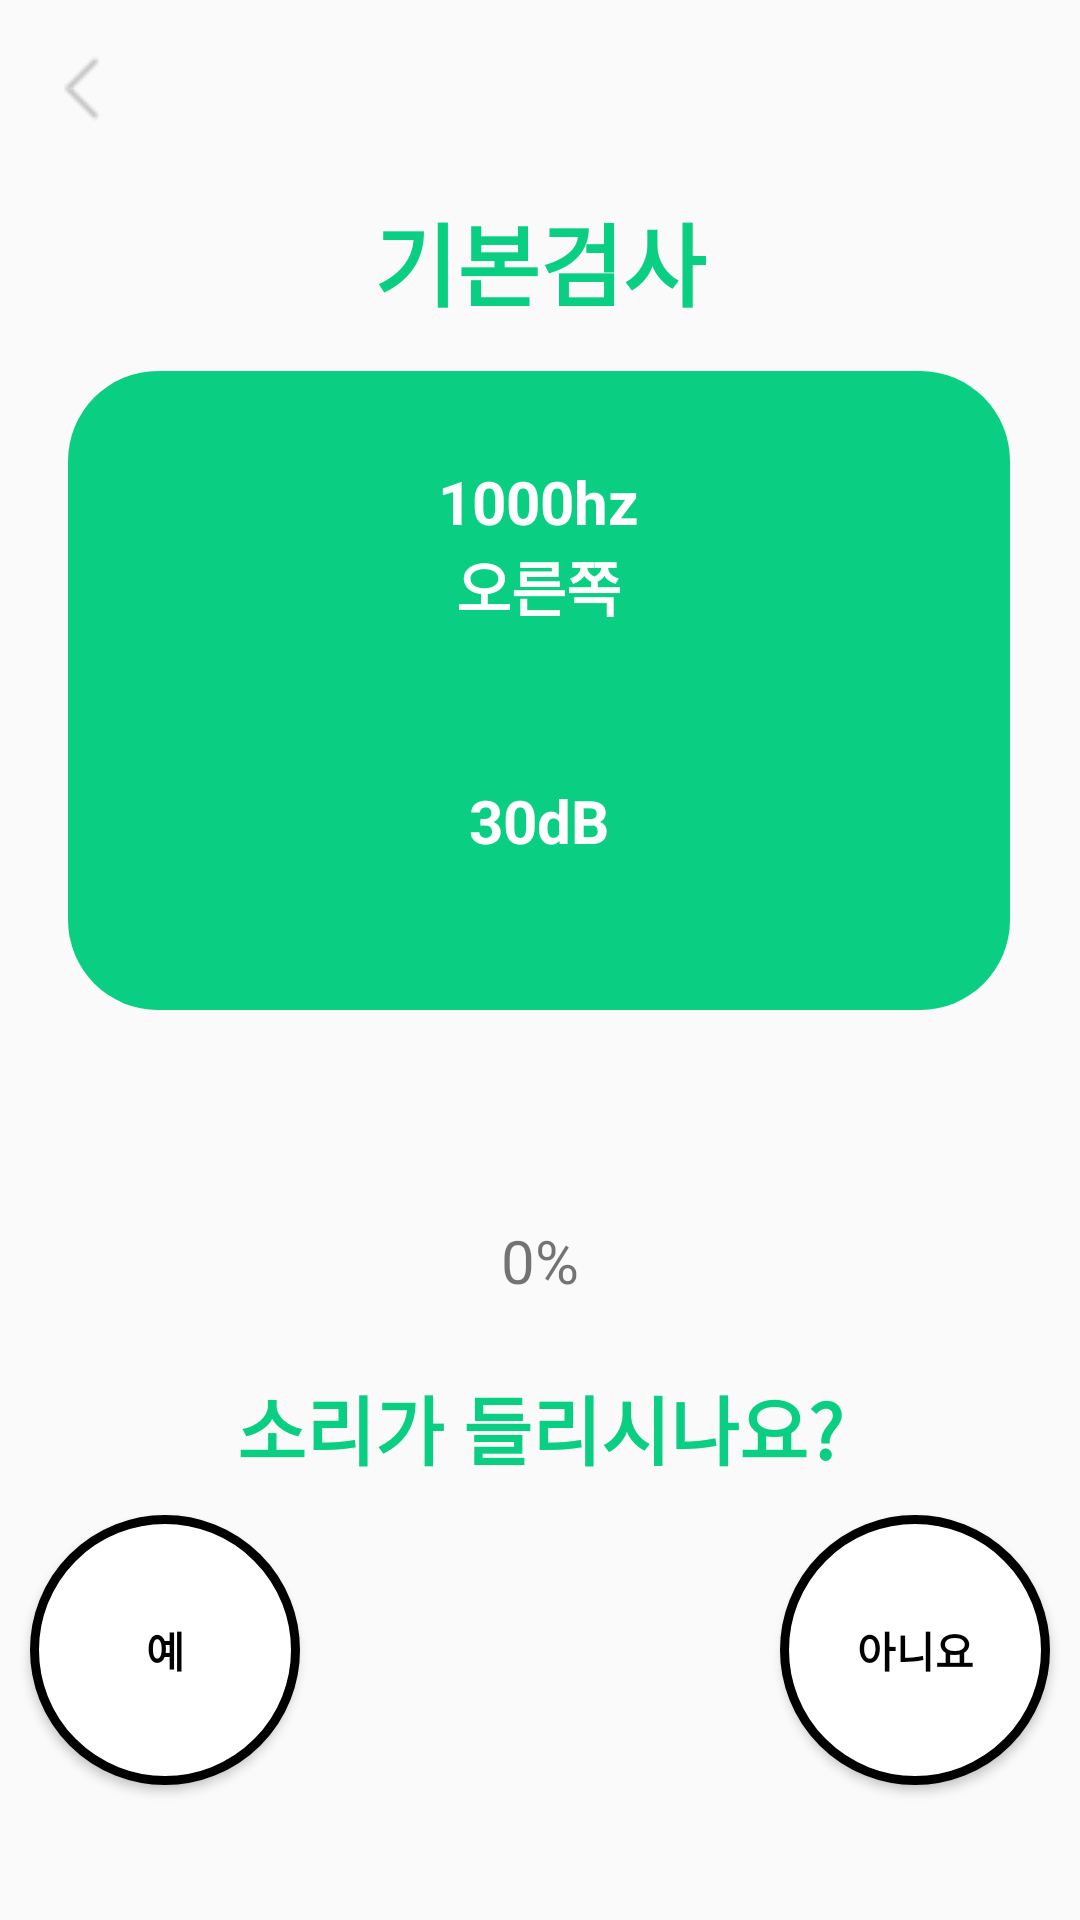

Named icons in this screenshot (1080px x 1920px) and their centers, (x=x, y=y):
back: (x=81, y=88)
